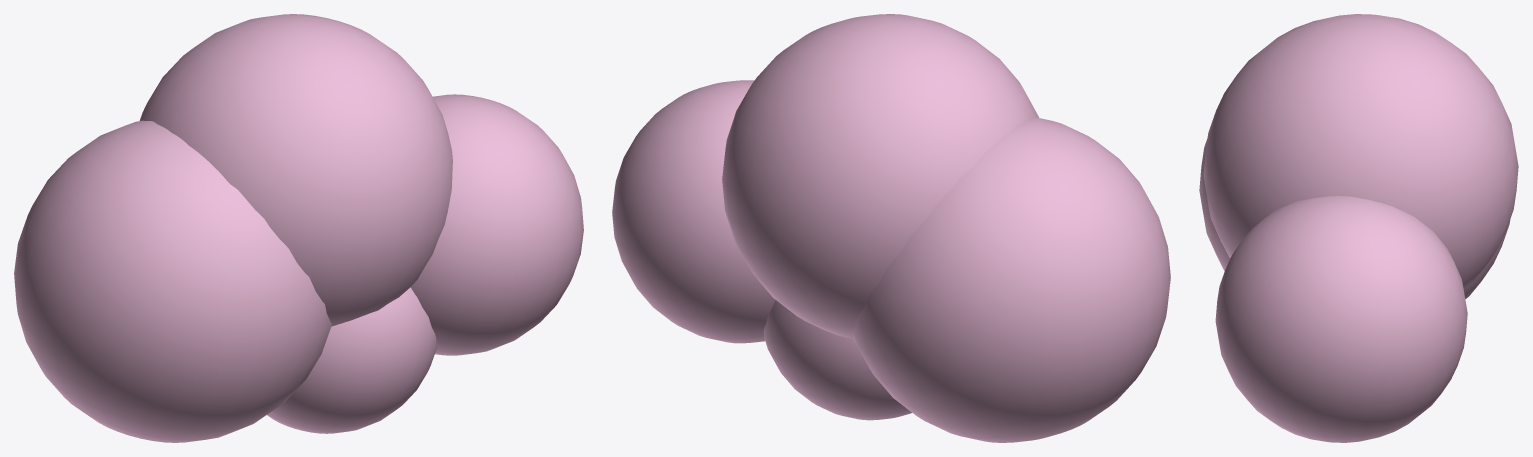
Rendered from bulut.fbx.
3 renders of one model, left to right at view 1: azimuth 30°, elevation 25°; view 2: azimuth 150°, elevation 25°; view 3: azimuth 270°, elevation 25°, orthographic. The views are drawn at different scales.
Parts seen in each view (by area): view 1: bulut.007, bulut.006, bulut.004, bulut.005; view 2: bulut.007, bulut.006, bulut.004, bulut.005; view 3: bulut.006, bulut.004, bulut.007.
Part boxes in pixels (left/top/right/bottom): bulut.007: left=14, top=120, right=331, bottom=442; bulut.006: left=139, top=14, right=452, bottom=326; bulut.004: left=410, top=94, right=583, bottom=355; bulut.005: left=267, top=287, right=436, bottom=433; bulut.007: left=853, top=117, right=1170, bottom=442; bulut.006: left=722, top=14, right=1038, bottom=338; bulut.004: left=612, top=80, right=775, bottom=343; bulut.005: left=763, top=300, right=911, bottom=420; bulut.006: left=1203, top=14, right=1518, bottom=288; bulut.004: left=1215, top=196, right=1467, bottom=442; bulut.007: left=1199, top=139, right=1510, bottom=298.
Size of the model in its own units: 245 by 175 by 134.
